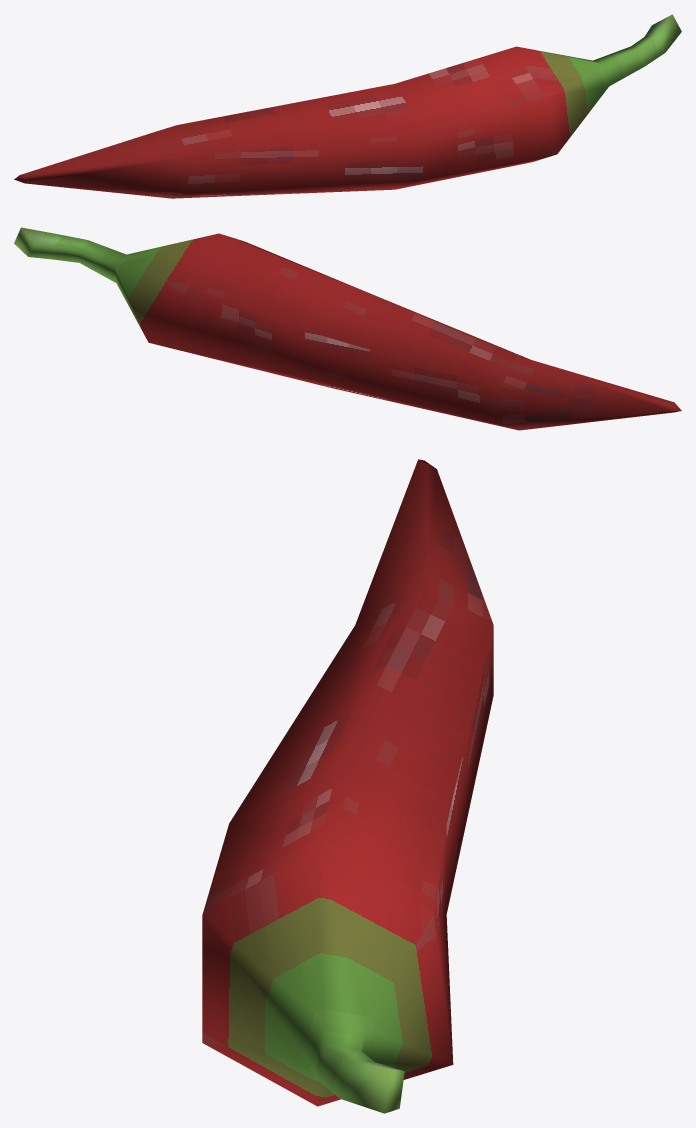
File: Prepared_PepperJalapeno.fbx
3 views of the same model, one above another, from view 1: azimuth 30°, elevation 25°; view 2: azimuth 150°, elevation 25°; view 3: azimuth 270°, elevation 25° (orthographic). The views are drawn at different scales.
Visible parts, largest first — view 1: PepperJalapeno; view 2: PepperJalapeno; view 3: PepperJalapeno.
Boxes of the visible parts, <box> form: PepperJalapeno: <box>14,14,681,198</box>; PepperJalapeno: <box>14,227,681,430</box>; PepperJalapeno: <box>202,459,493,1113</box>.
Size of the model in its own units: 4.65 by 0.8074 by 0.8921.
